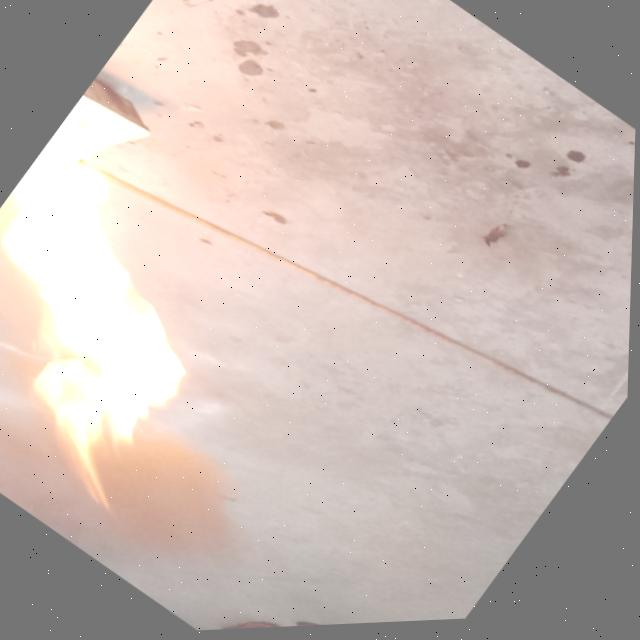Fire: (0, 80, 315, 519)
